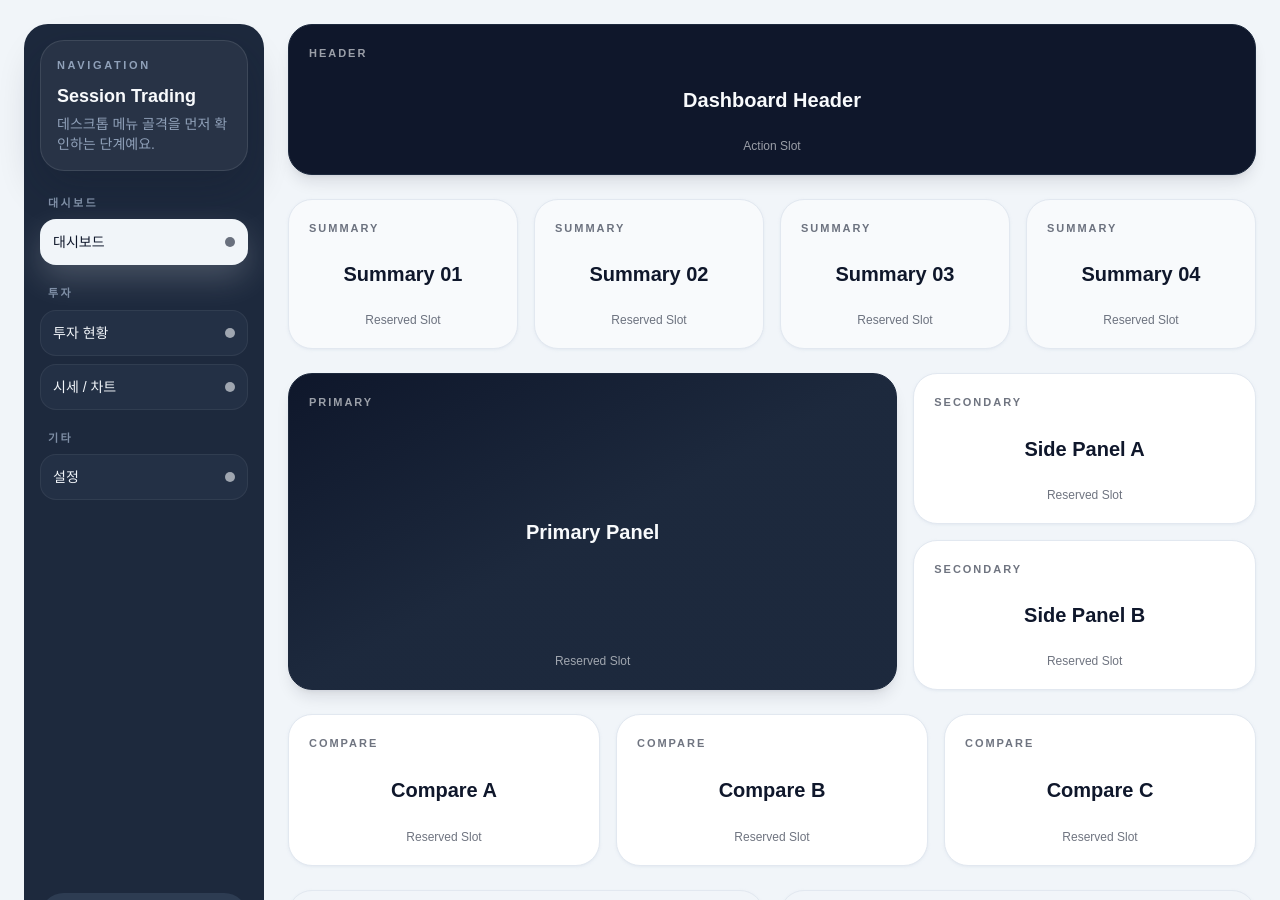
Scenario: App routing › changes the desktop content area when a sidebar menu is clicked
Click the link "투자 현황": (144, 332) [40,310,248,356]
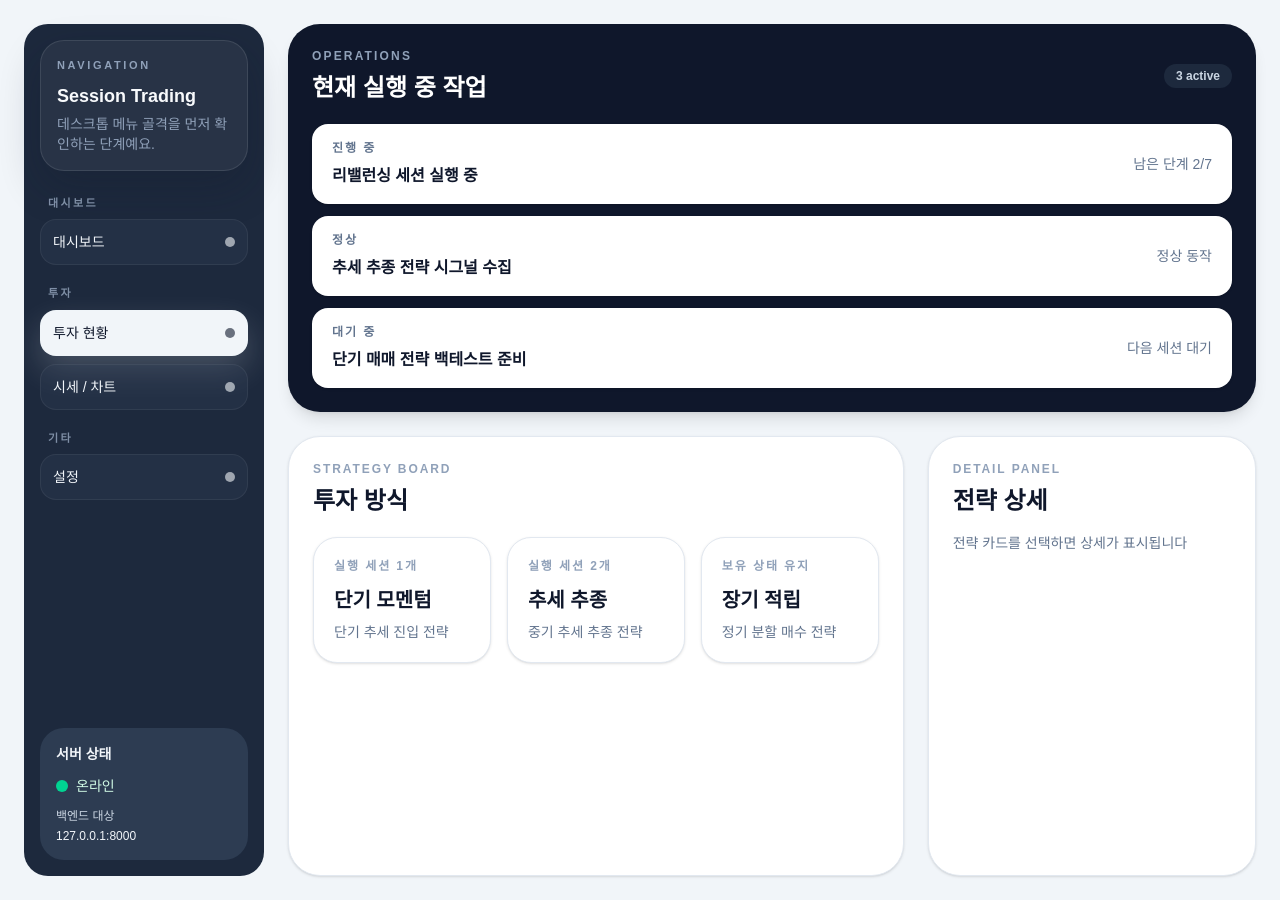
expect the element with test id "investment-status-desktop-layout" is shown: met
